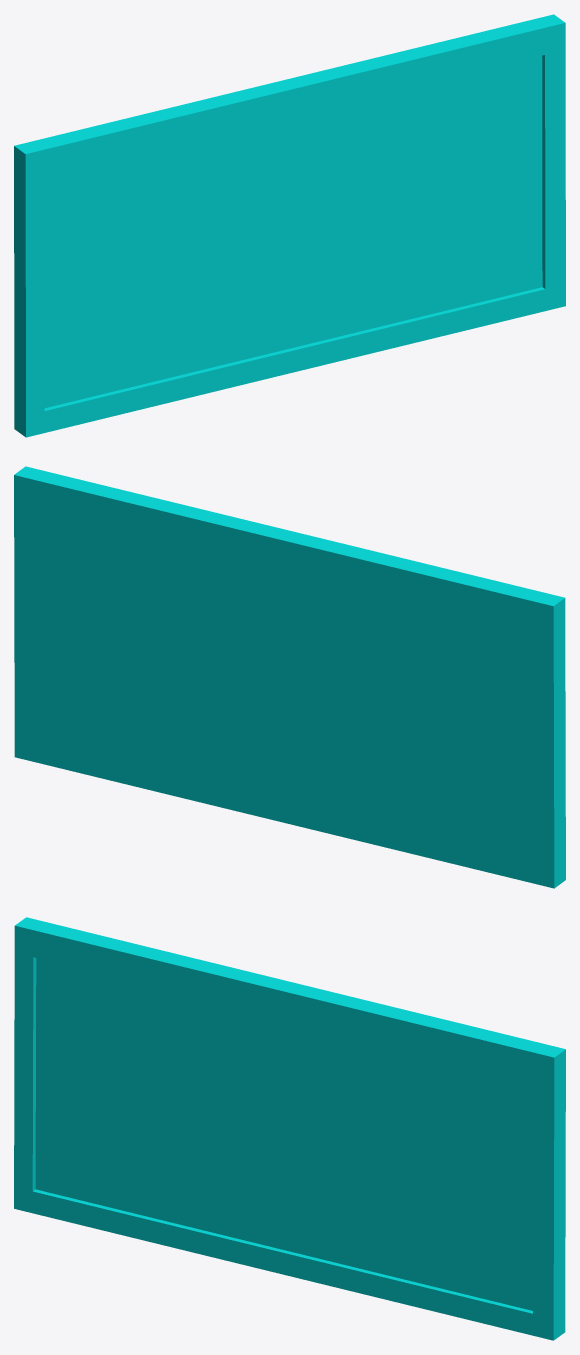
The model's file is signTest.fbx.
3 views of the same model, one above another, from view 1: azimuth 30°, elevation 25°; view 2: azimuth 150°, elevation 25°; view 3: azimuth 330°, elevation 25° (orthographic).
Parts seen in each view (by area): view 1: sign; view 2: sign; view 3: sign.
Part boxes in pixels (box(x1,y1,x2,y2)): sign: box(14, 14, 565, 437); sign: box(14, 466, 565, 888); sign: box(14, 917, 565, 1340).
Size of the model in its own units: 0.2615 by 0.1311 by 0.0103.
